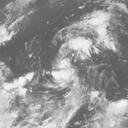cyclone: (49, 24, 110, 87)
